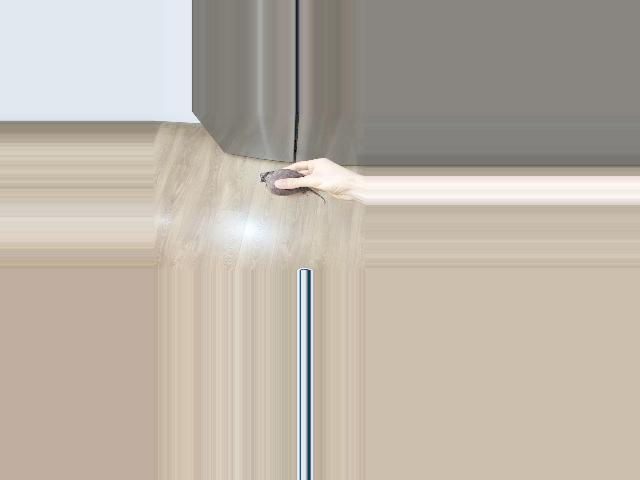beet: (258, 169, 324, 204)
